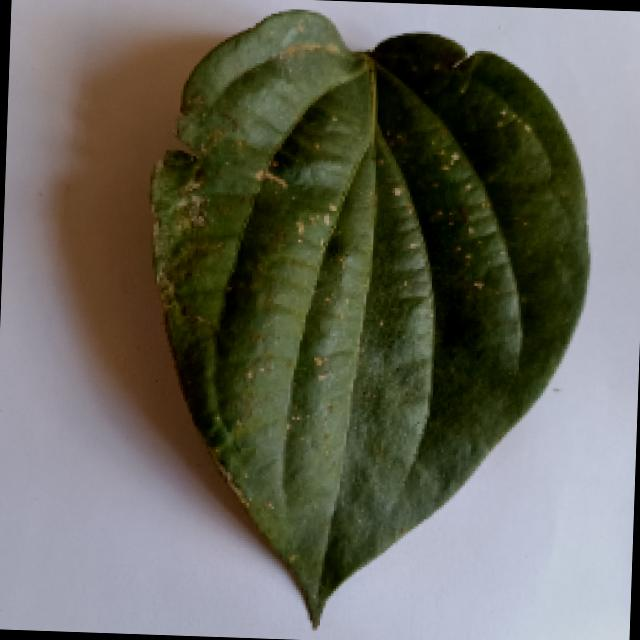pollu-disease: (144, 10, 604, 634)
